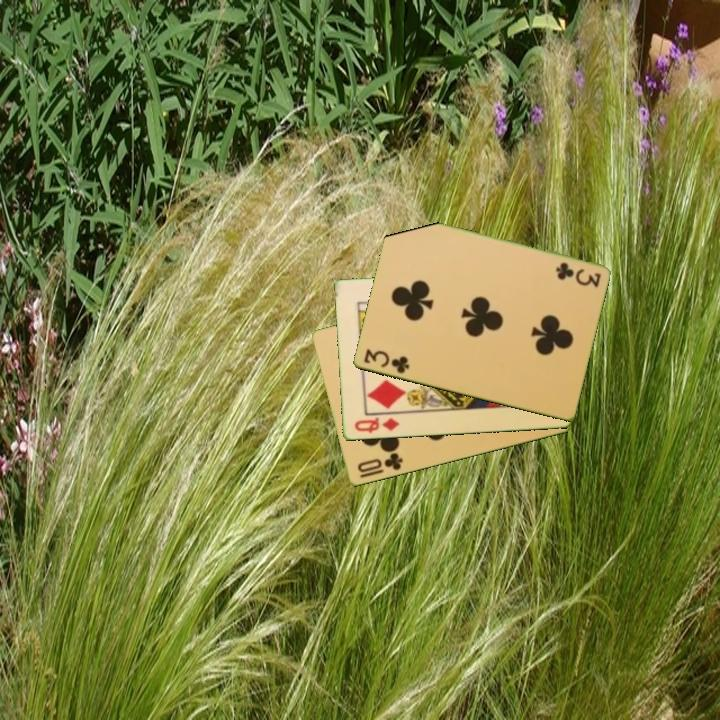10c: (354, 450, 406, 476)
3c: (360, 346, 412, 377), (552, 259, 604, 289)
Qd: (351, 414, 402, 436)
